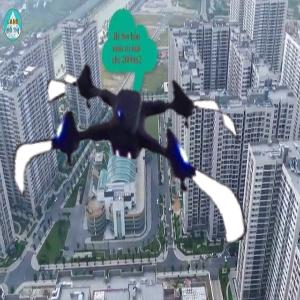drone: (6, 29, 244, 267)
